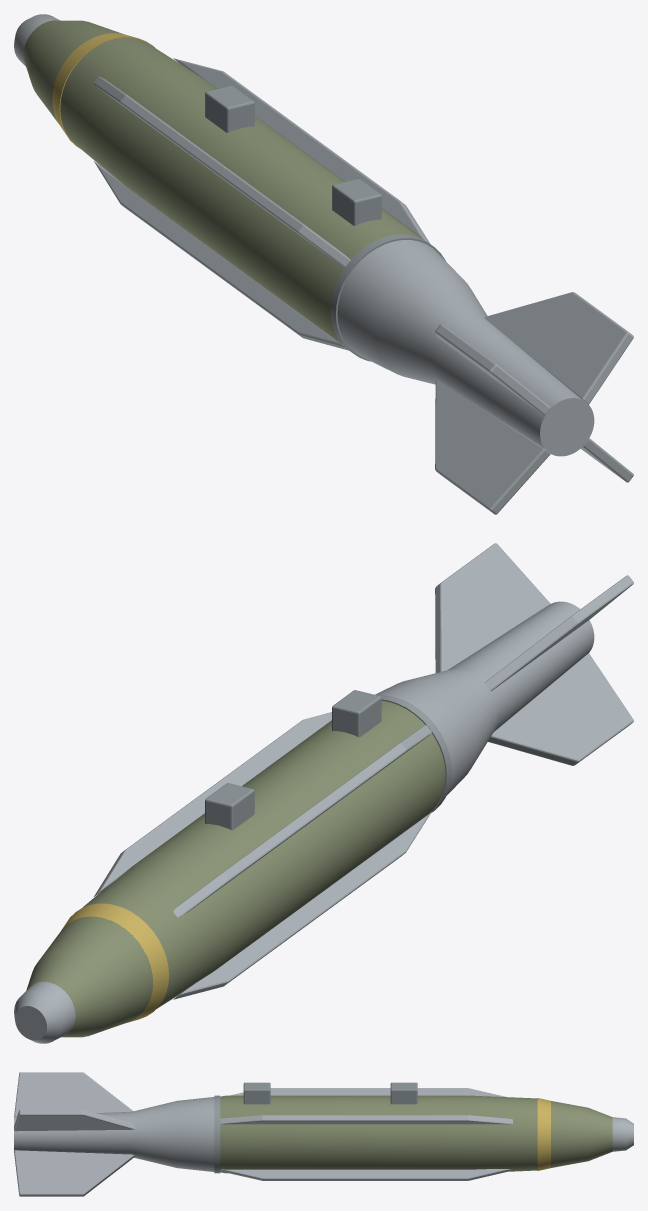
The model's file is gbu38.glb.
The picture shows the model from 3 angles, top to bottom: view 1: azimuth 30°, elevation 25°; view 2: azimuth 150°, elevation 25°; view 3: azimuth 270°, elevation 25°; orthographic projection. The views are drawn at different scales.
Parts seen in each view (by area): view 1: static.Airframe grey, static.Store olive, static.Dull metal, static.Store band ochre; view 2: static.Store olive, static.Airframe grey, static.Dull metal, static.Store band ochre; view 3: static.Airframe grey, static.Store olive, static.Dull metal, static.Store band ochre.
Boxes of the visible parts, bbox=[...] form: static.Airframe grey: bbox=[14, 14, 633, 514]; static.Store olive: bbox=[23, 20, 422, 343]; static.Dull metal: bbox=[205, 85, 445, 361]; static.Store band ochre: bbox=[52, 33, 154, 148]; static.Store olive: bbox=[26, 701, 445, 1037]; static.Airframe grey: bbox=[14, 543, 633, 1043]; static.Dull metal: bbox=[205, 690, 451, 830]; static.Store band ochre: bbox=[62, 903, 168, 1022]; static.Airframe grey: bbox=[14, 1072, 633, 1196]; static.Store olive: bbox=[220, 1095, 612, 1173]; static.Dull metal: bbox=[214, 1082, 417, 1173]; static.Store band ochre: bbox=[537, 1098, 550, 1170].
Size of the model in its own units: 0.3601 by 0.3801 by 2.32.
